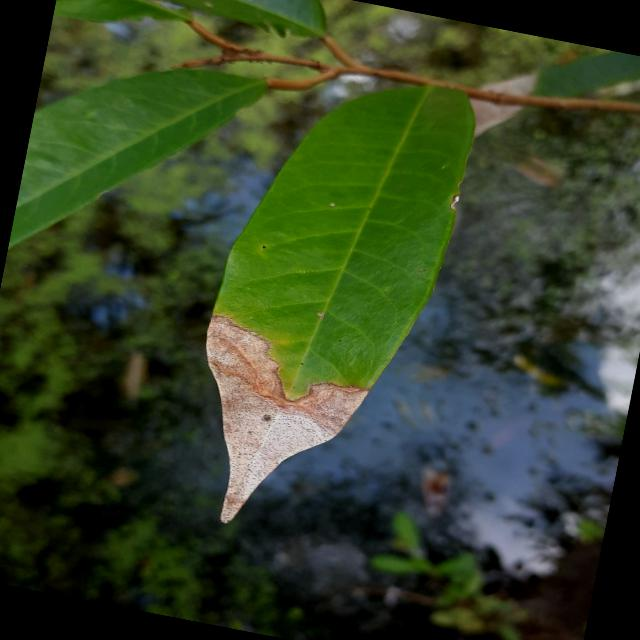Leaf Blight: (165, 42, 490, 566)
